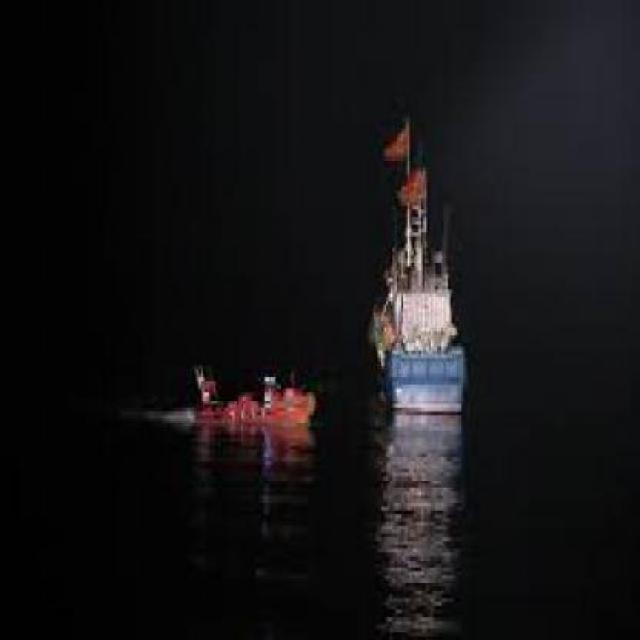fish-b: (347, 89, 490, 447)
